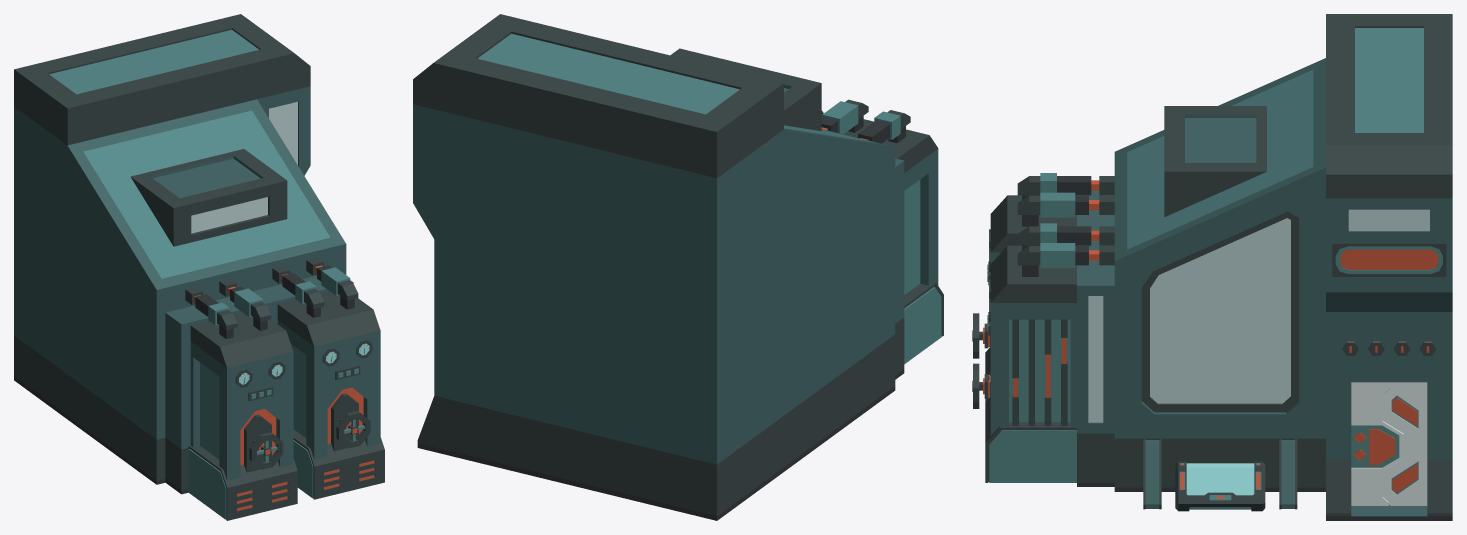
File: TP_Sci-fi02.fbx
The picture shows the model from 3 angles, left to right: view 1: azimuth 30°, elevation 25°; view 2: azimuth 150°, elevation 25°; view 3: azimuth 270°, elevation 25°; orthographic projection. The views are drawn at different scales.
Parts seen in each view (by area): view 1: TP_Sci_fi02; view 2: TP_Sci_fi02; view 3: TP_Sci_fi02.
Boxes of the visible parts, <box> form: TP_Sci_fi02: <box>14,14,384,520</box>; TP_Sci_fi02: <box>413,14,943,520</box>; TP_Sci_fi02: <box>972,14,1452,520</box>.
Bounding box in the file's own units: 261 × 317 × 375.
1 material, 1 textured.
